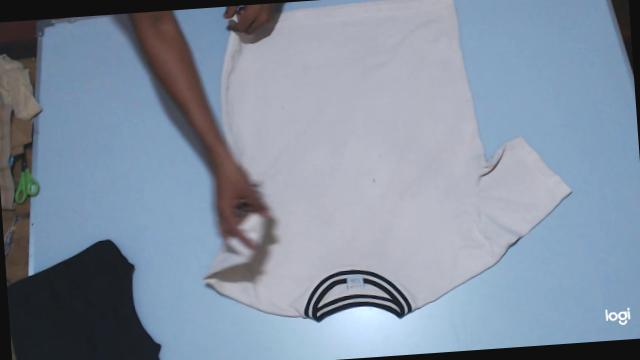new-garment: (205, 0, 570, 319)
